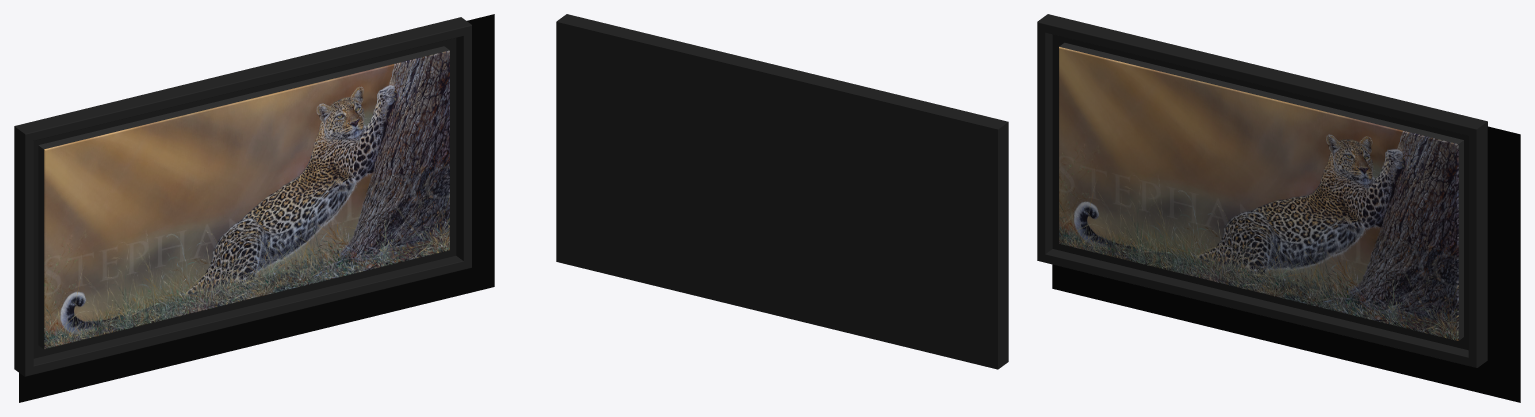
The model's file is tableau-romi-leopard-classique-4db2095a.glb.
3 renders of one model, left to right at view 1: azimuth 30°, elevation 25°; view 2: azimuth 150°, elevation 25°; view 3: azimuth 330°, elevation 25°, orthographic.
Visible parts, largest first — view 1: Painting; view 2: Painting; view 3: Painting.
Boxes of the visible parts, <box> form: Painting: <box>14,14,494,402</box>; Painting: <box>556,14,1008,369</box>; Painting: <box>1037,14,1520,402</box>.
Size of the model in its own units: 1.01 by 0.556 by 0.04.
5 materials, 3 textured.
